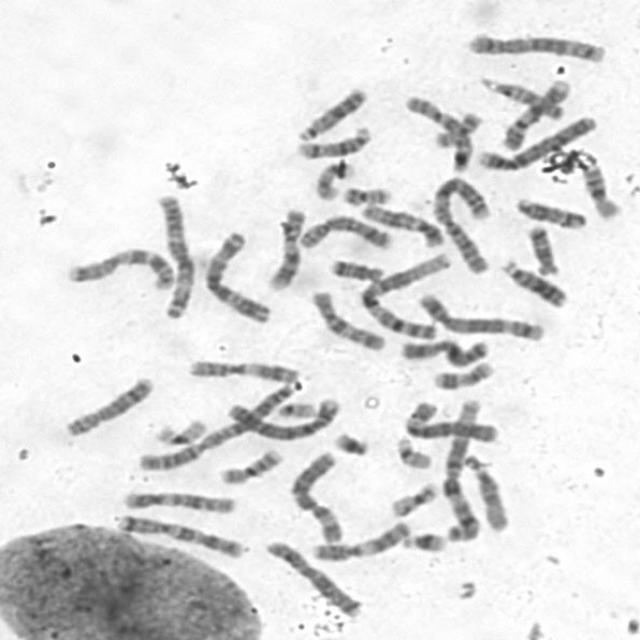A1: (357, 252, 453, 342), (442, 398, 486, 542)
A2: (136, 382, 296, 474), (430, 176, 495, 276)
A3: (203, 231, 275, 325), (154, 196, 200, 322)
B4: (475, 115, 600, 172), (224, 396, 345, 442)
B5: (417, 293, 548, 341), (464, 30, 613, 64)
C10: (405, 94, 473, 172), (304, 290, 386, 352)
C11: (308, 520, 411, 563), (185, 359, 298, 384)
C12: (360, 202, 446, 247), (124, 490, 240, 516)
C6: (290, 450, 347, 544), (404, 401, 501, 444)
C7: (115, 513, 246, 561), (68, 248, 176, 290)
C8: (64, 375, 154, 439), (296, 215, 394, 251)
C9: (502, 77, 574, 152), (267, 207, 306, 293)
D13: (296, 86, 368, 142), (501, 259, 569, 310)
D14: (296, 125, 372, 161), (512, 198, 588, 230)
D15: (477, 76, 567, 120), (463, 454, 509, 534)
E16: (216, 446, 284, 486), (582, 164, 621, 220)
E17: (432, 361, 496, 389), (316, 162, 350, 202)
E18: (526, 224, 561, 276), (326, 258, 386, 284)
F19: (389, 481, 441, 518), (153, 417, 210, 447)
F20: (434, 110, 485, 150), (342, 186, 392, 207)
G21: (401, 530, 446, 554), (333, 430, 370, 456)
G22: (394, 435, 435, 472), (268, 402, 319, 424)
X: (262, 540, 365, 618), (397, 336, 497, 368)
